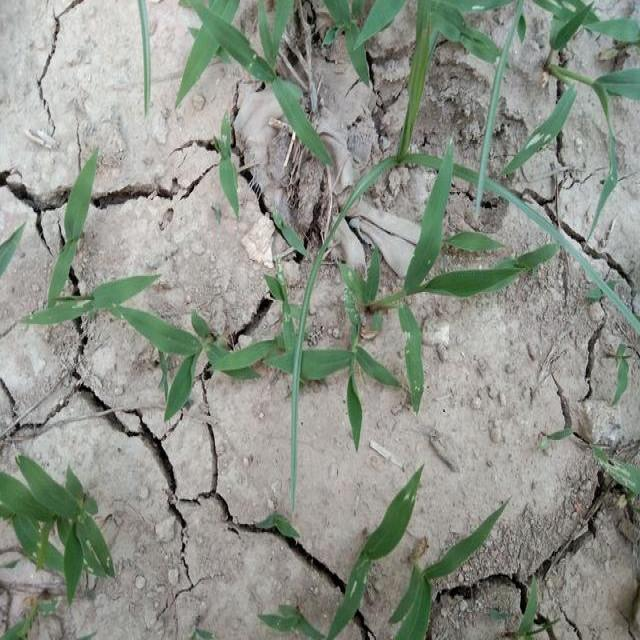weed: (186, 0, 341, 203), (342, 487, 508, 640), (273, 284, 431, 428), (382, 159, 510, 311), (5, 446, 101, 604), (123, 311, 264, 402), (54, 153, 104, 260), (49, 279, 147, 316)
